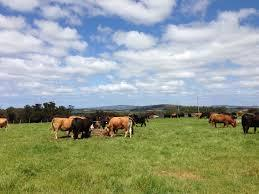cow: (53, 117, 85, 140), (70, 115, 99, 140), (104, 117, 134, 139), (208, 113, 238, 129), (243, 114, 259, 133), (127, 113, 148, 127), (0, 118, 9, 131)
